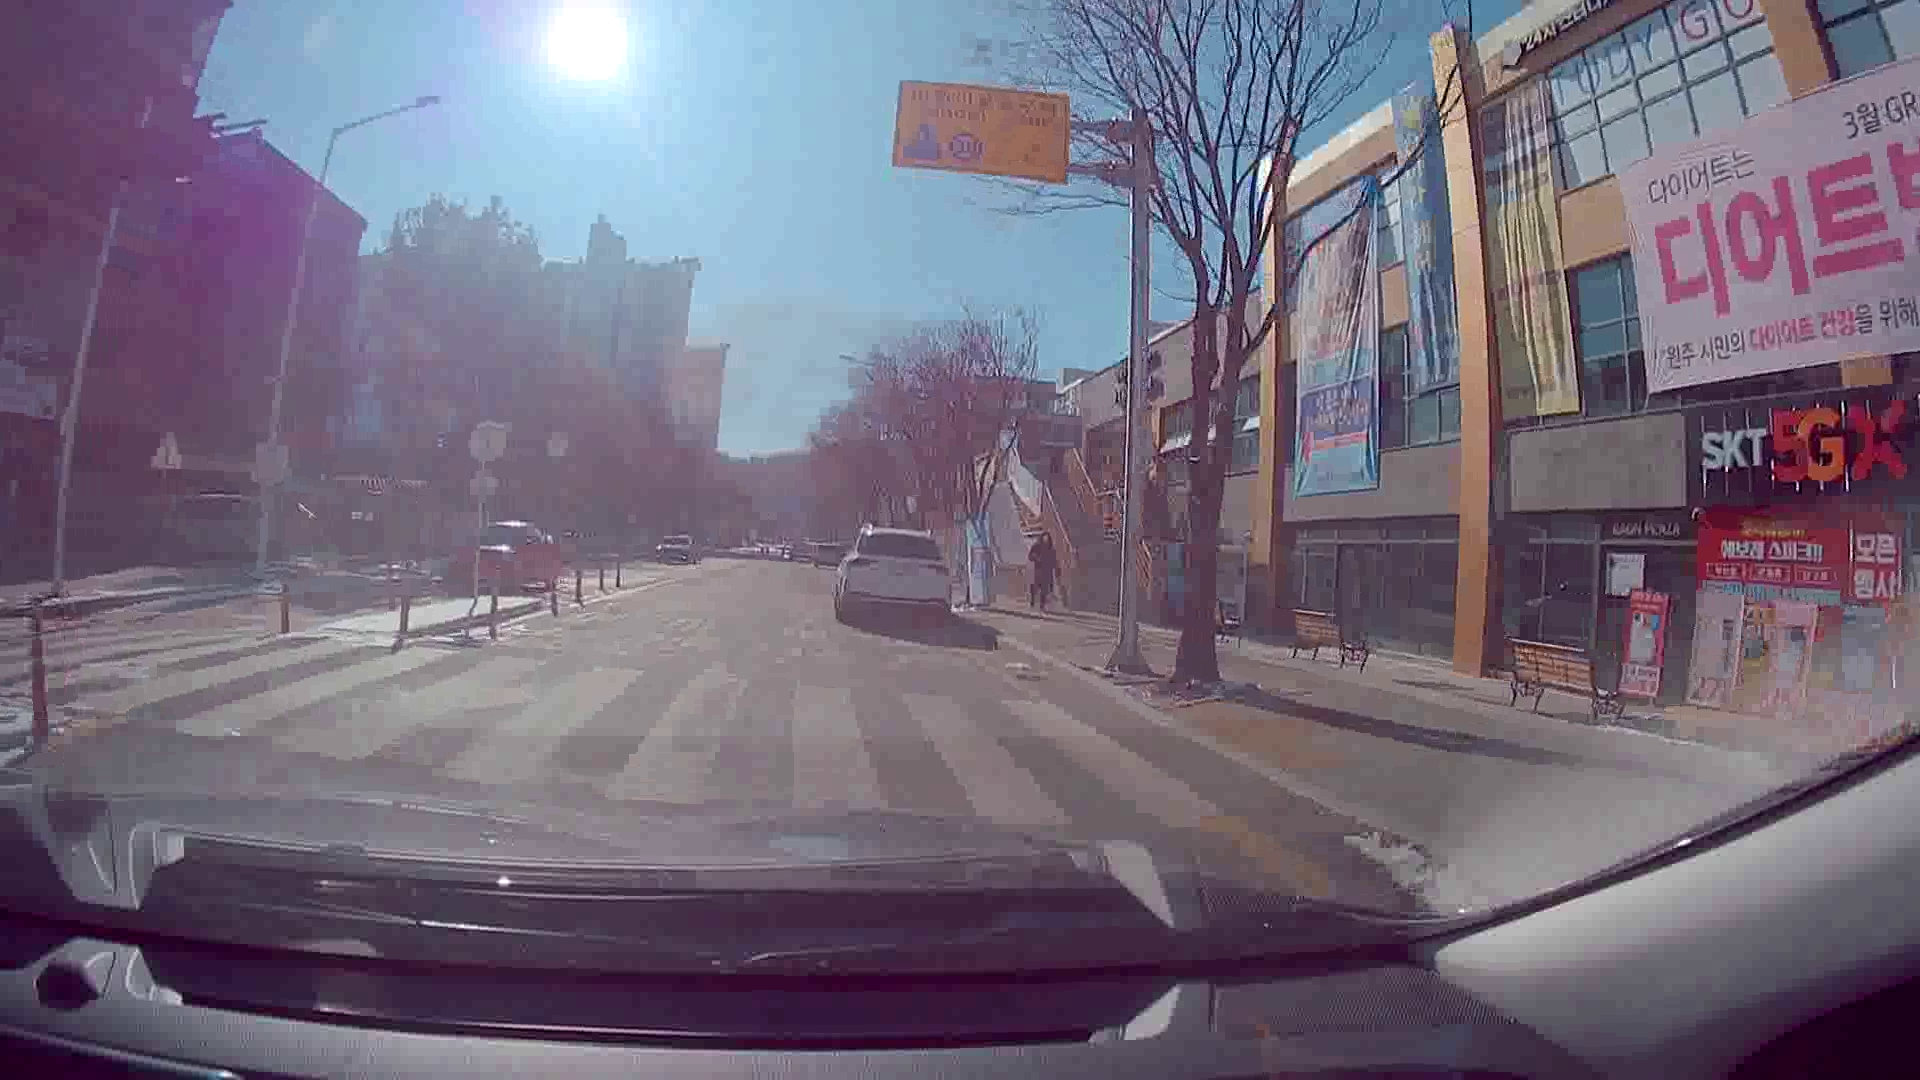trafficSignRTG: (891, 76, 1073, 185)
